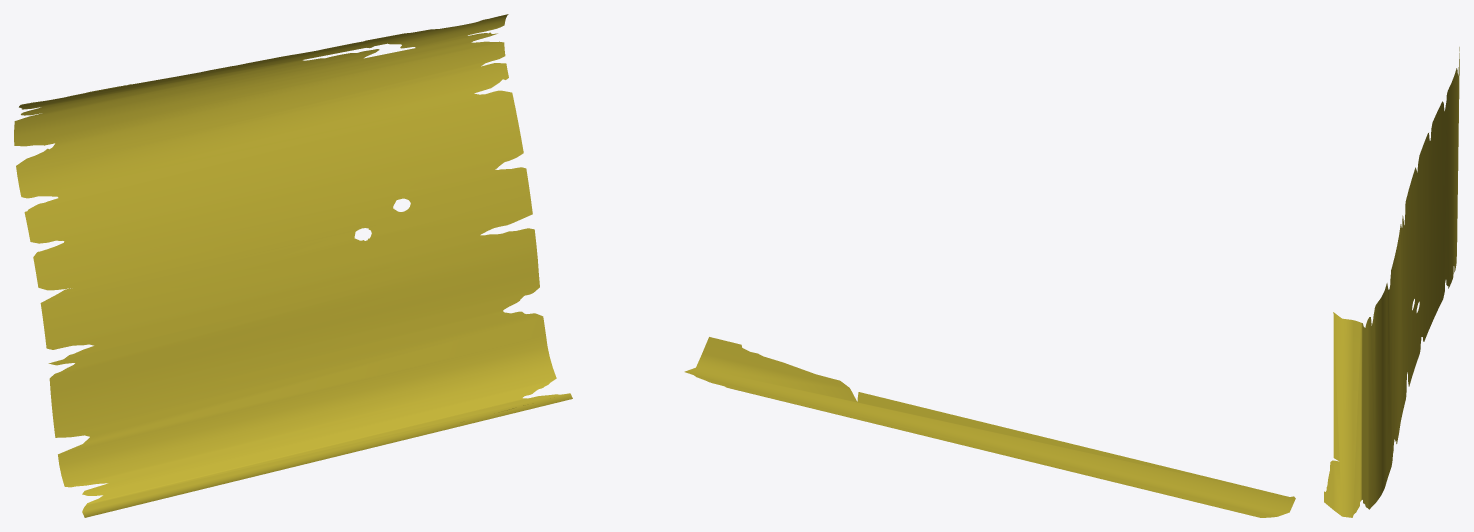
The model's file is map.gltf.
The picture shows the model from 3 angles, left to right: view 1: azimuth 30°, elevation 25°; view 2: azimuth 150°, elevation 25°; view 3: azimuth 270°, elevation 25°; orthographic projection. The views are drawn at different scales.
Visible parts, largest first — view 1: Group_001; view 2: Group_001; view 3: Group_001.
Part boxes in pixels (x1,y1,x2,y2): Group_001: [14, 14, 572, 517]; Group_001: [684, 337, 1295, 517]; Group_001: [1324, 47, 1459, 517].
Bounding box in the file's own units: 4390 × 3127 × 1264.
